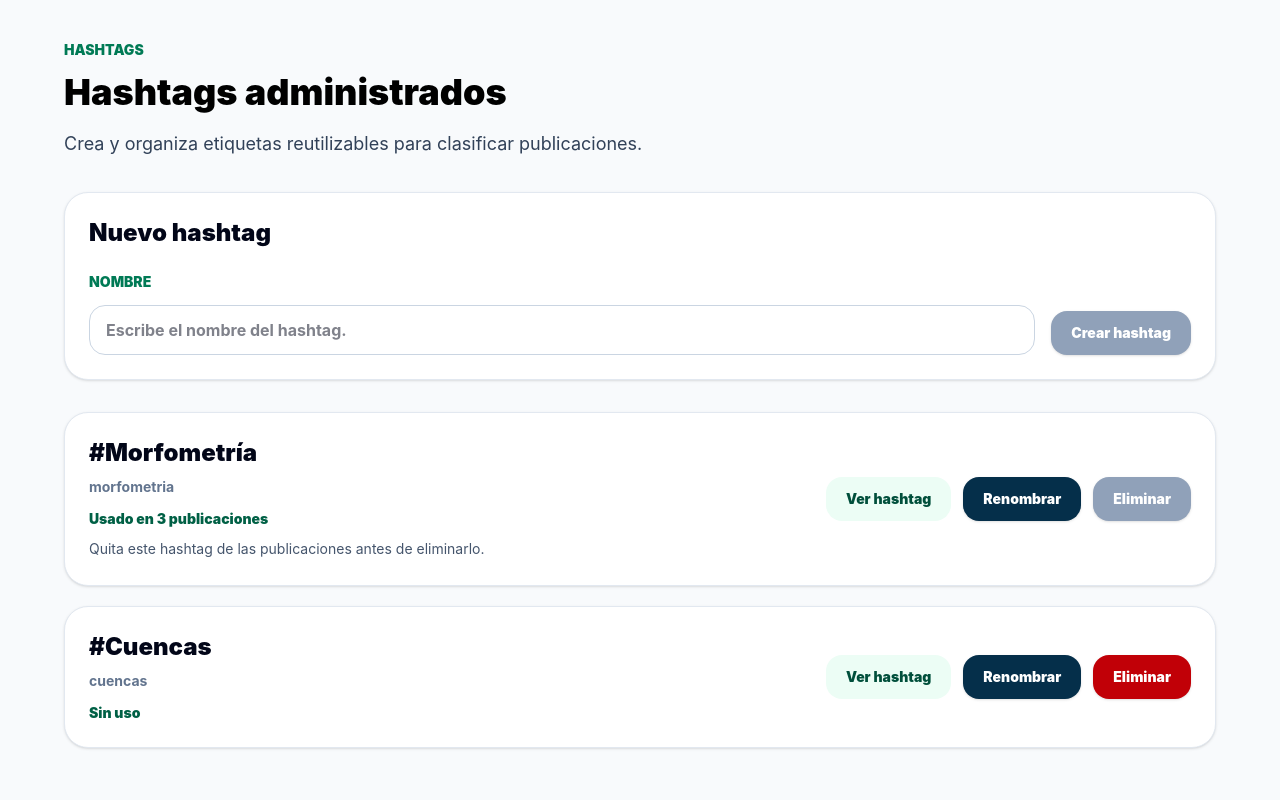
AdminHashtagsView › renames a tag and keeps the slug visible
Click the button "Renombrar" in the row of "Usado en 3 publicaciones".
click(1022, 499)  # box x1=963 y1=477 x2=1081 y2=521
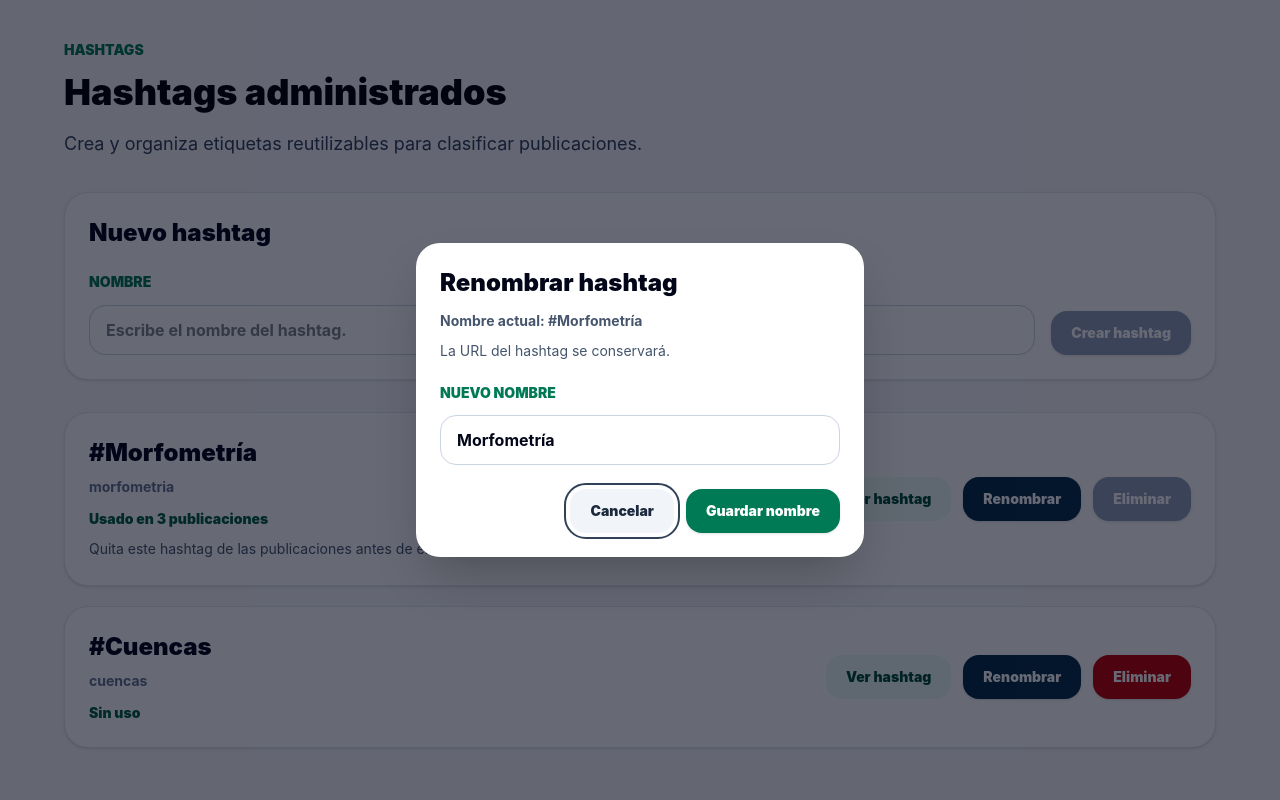
Replace the text in the field labelled "Nuevo nombre" with "Morfometría de cuencas" at x=640, y=440, box x1=440 y1=415 x2=840 y2=465
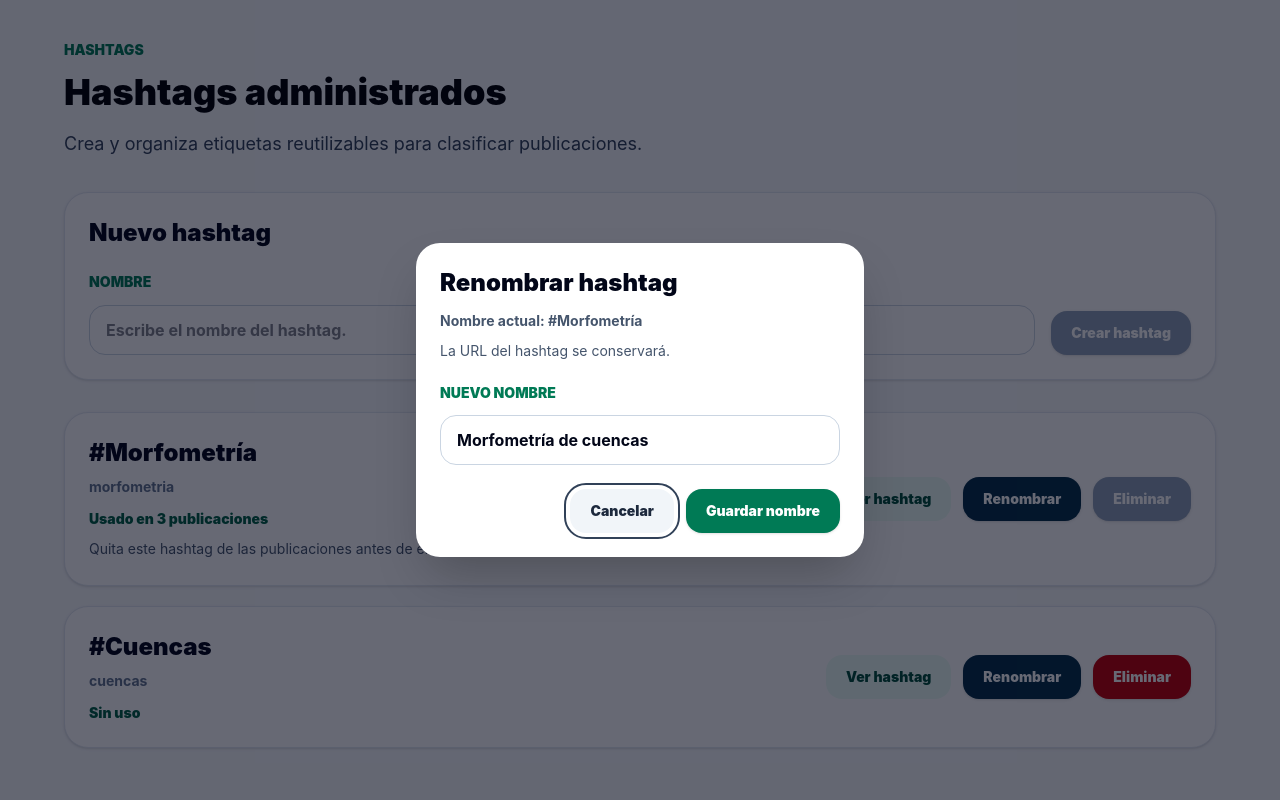
Click the button "Guardar nombre".
click(763, 511)  # box x1=686 y1=489 x2=840 y2=533
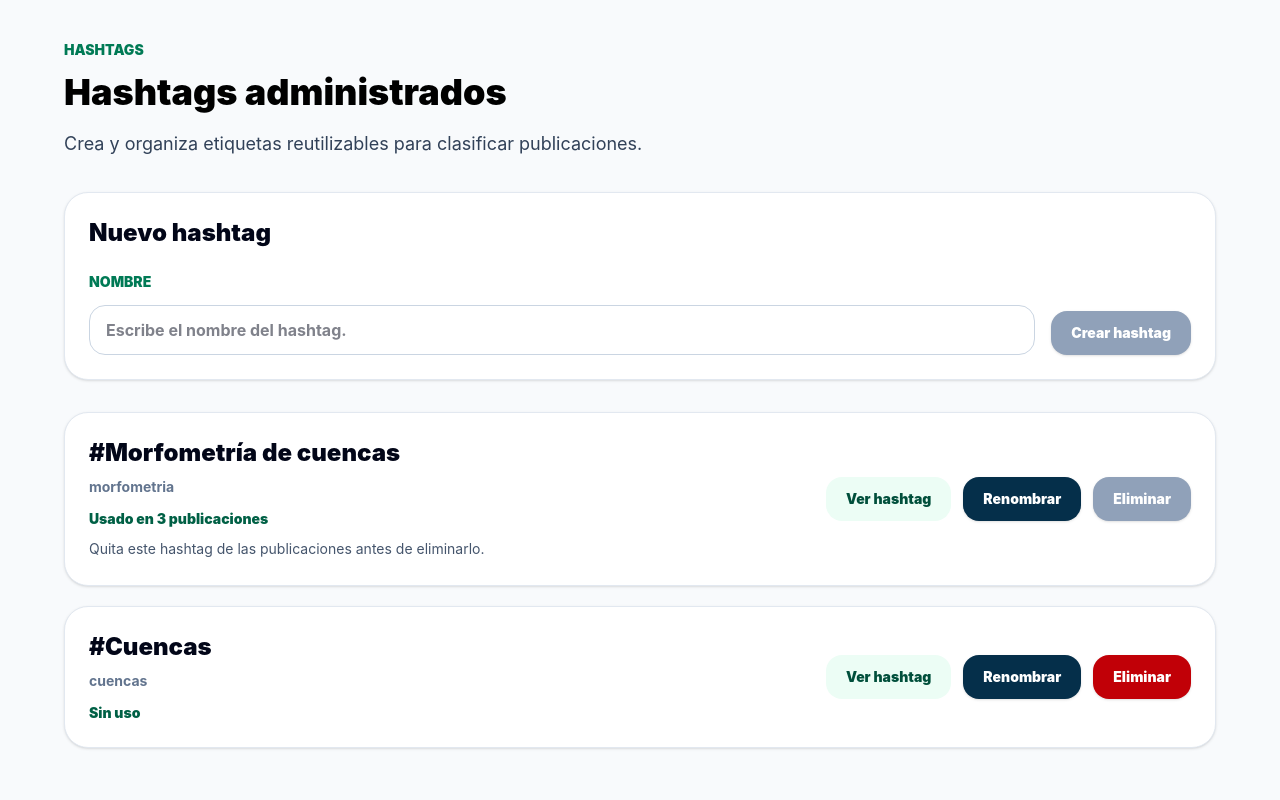
Expected: the text "morfometria" is shown, x1=89 y1=478 x2=174 y2=495
Expected: the text "#Morfometría de cuencas" is shown, x1=89 y1=438 x2=400 y2=467
